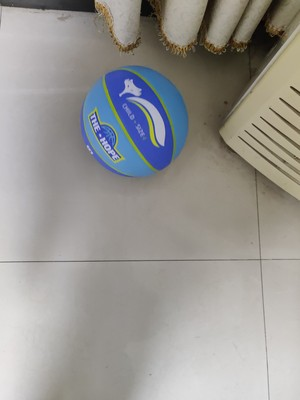ball: (80, 65, 189, 179)
